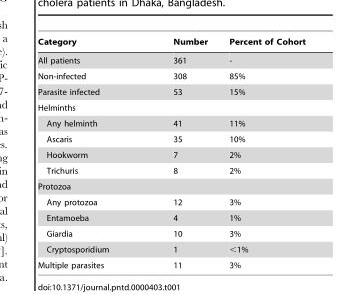table: (37, 37, 304, 269)
table column: (37, 37, 140, 269), (217, 37, 304, 269), (140, 37, 217, 269)
table column header: (37, 37, 304, 50)
table projected row header: (37, 99, 304, 115), (37, 178, 304, 194)
table row: (37, 50, 304, 68), (37, 83, 304, 99), (37, 99, 304, 115), (37, 115, 304, 131), (37, 146, 304, 162), (37, 162, 304, 178), (37, 178, 304, 194), (37, 209, 304, 225), (37, 225, 304, 241), (37, 241, 304, 257), (37, 68, 304, 83), (37, 131, 304, 146), (37, 194, 304, 209), (37, 37, 304, 50), (37, 257, 304, 269)
